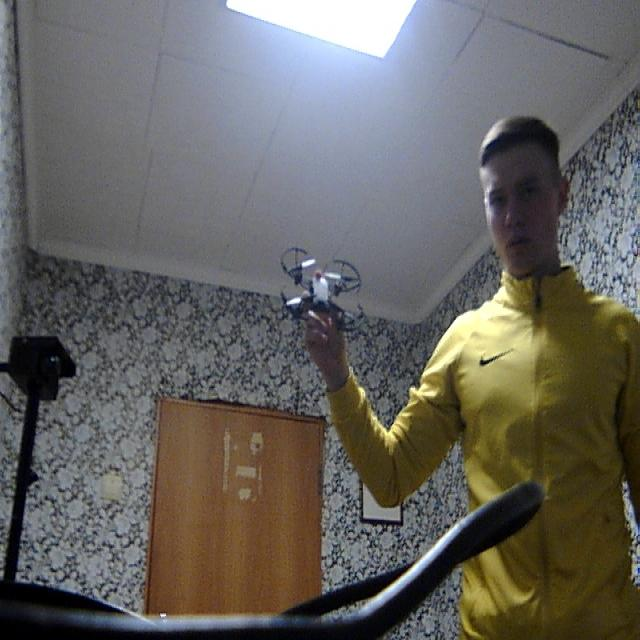drone: (272, 234, 377, 345)
